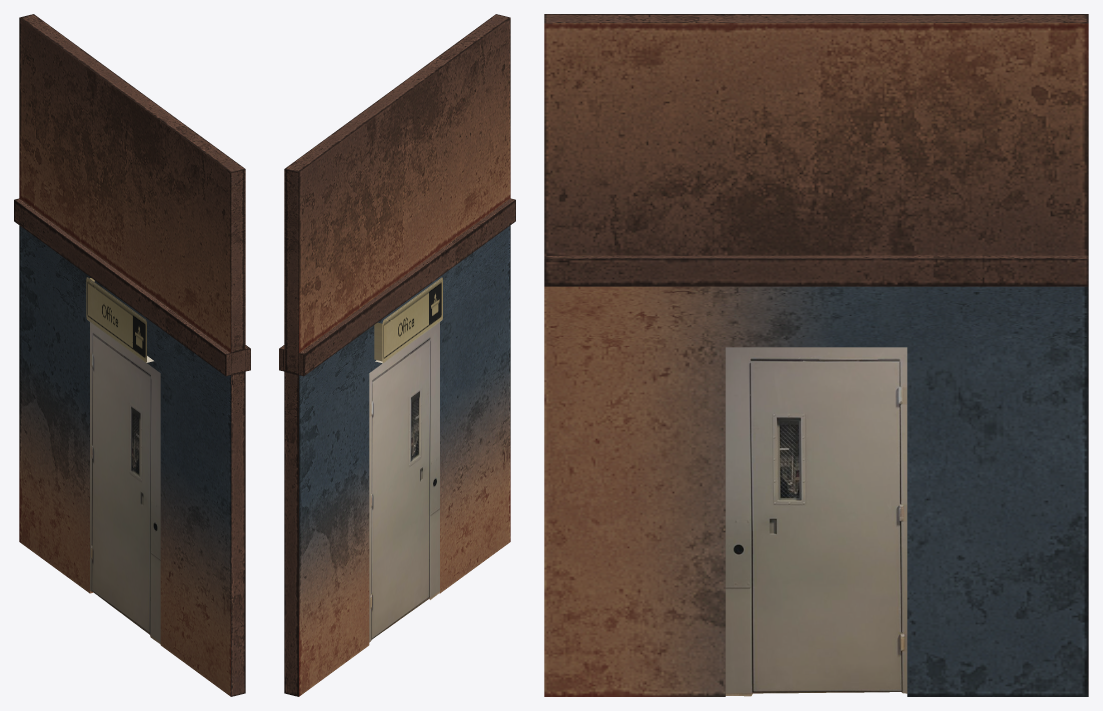
File: Door_Wall.fbx
The picture shows the model from 3 angles, left to right: view 1: azimuth 30°, elevation 25°; view 2: azimuth 150°, elevation 25°; view 3: azimuth 270°, elevation 25°; orthographic projection. The views are drawn at different scales.
Visible parts, largest first — view 1: Door_Wall, Door, Cube; view 2: Door_Wall, Door, Cube; view 3: Door_Wall, Door.
Boxes of the visible parts, <box> form: Door_Wall: <box>14,14,250,696</box>; Door: <box>90,322,160,644</box>; Cube: <box>86,278,146,361</box>; Door_Wall: <box>279,14,515,696</box>; Door: <box>369,322,439,642</box>; Cube: <box>374,278,442,362</box>; Door_Wall: <box>544,14,1088,696</box>; Door: <box>725,347,907,696</box>.
Size of the model in its own units: 0.456 by 8.13 by 5.96.
